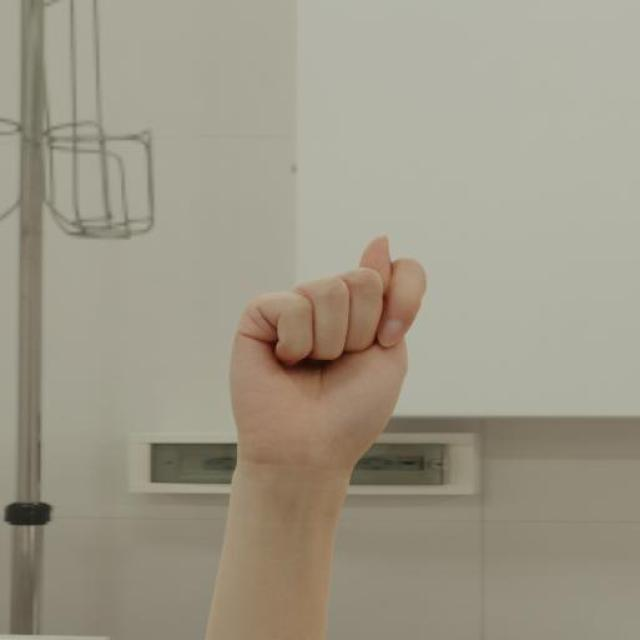T: (225, 210, 431, 474)
